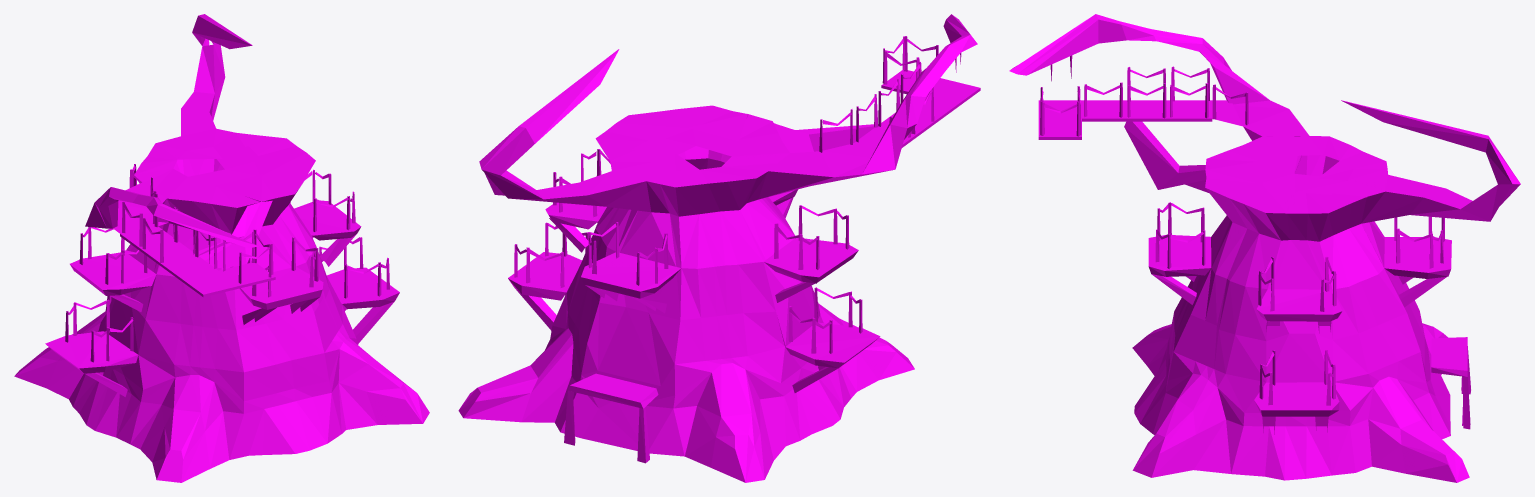
File: grand tree-lev 3.obj
3 views of the same model, side by side, from view 1: azimuth 30°, elevation 25°; view 2: azimuth 150°, elevation 25°; view 3: azimuth 270°, elevation 25° (orthographic). The views are drawn at different scales.
Parts seen in each view (by area): view 1: grand tree-lev 3_back; view 2: grand tree-lev 3_back; view 3: grand tree-lev 3_back.
Part boxes in pixels (bbox=[...]): grand tree-lev 3_back: bbox=[14, 14, 429, 482]; grand tree-lev 3_back: bbox=[458, 14, 980, 482]; grand tree-lev 3_back: bbox=[1009, 14, 1520, 482].
Size of the model in its own units: 11.6 by 10.94 by 15.12.
